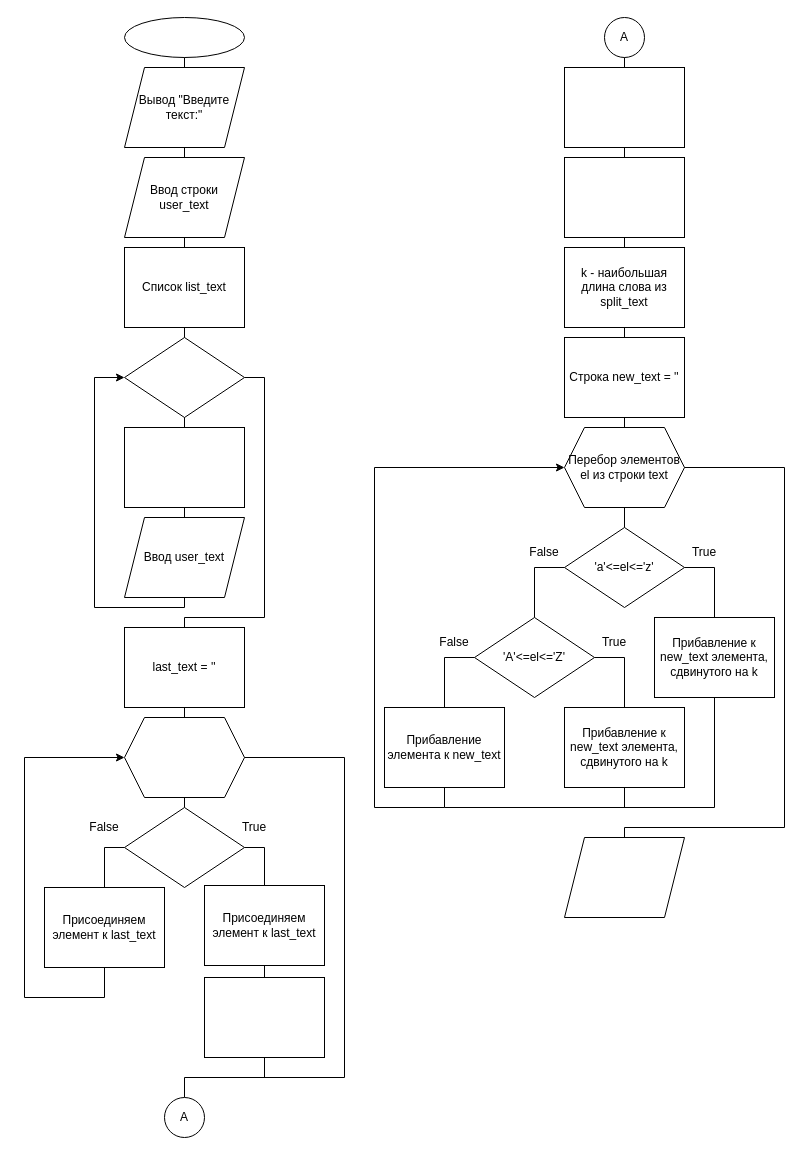
Image size: 803x1155. Some labels were removed from this diagram. The box of each missing label's shape, as (x1, y1, x2, y2) in pixels:
"." нет в user_text: (124, 336, 244, 418)
break: (204, 976, 324, 1058)
Вывод new_text: (564, 836, 684, 918)
Добавление user_text в список list_text: (124, 426, 244, 508)
Начало: (124, 16, 244, 58)
Перебор по элементам из list_text: (124, 716, 244, 798)
Применяем шаблон к строке text "\b\w+\b" и сохраняем в список split_text: (564, 156, 684, 238)
Соединяем элементы списка list_text в строку text: (564, 66, 684, 148)
Элемент - точка: (124, 806, 244, 888)
